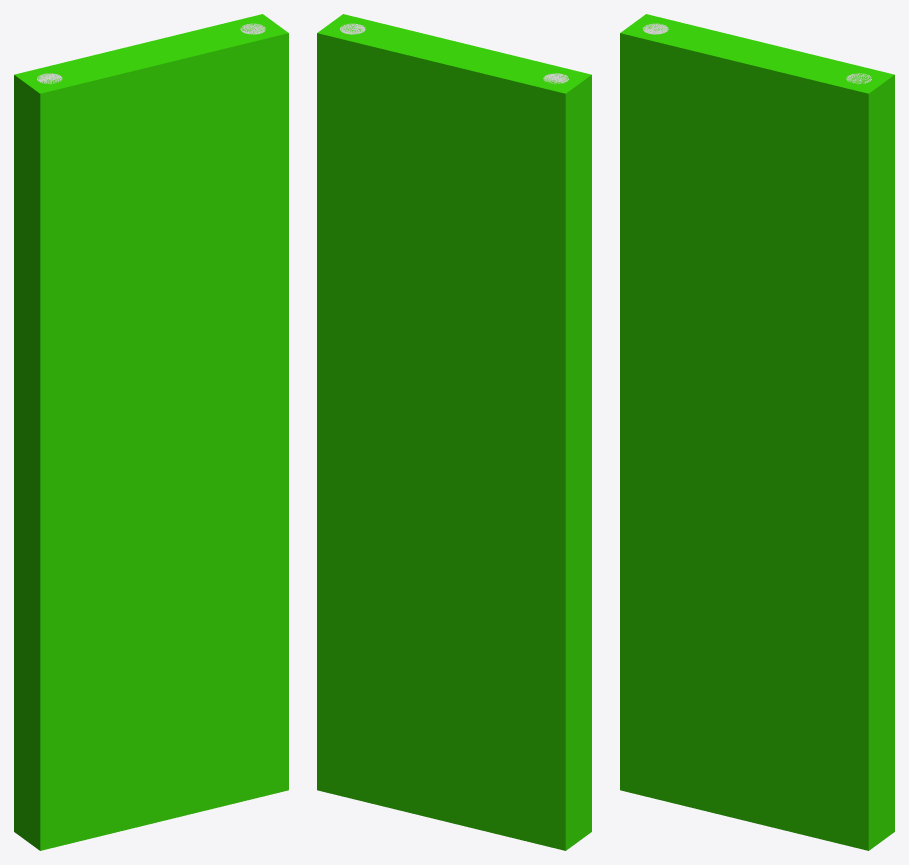
The model's file is ladder_4.glb.
The picture shows the model from 3 angles, left to right: view 1: azimuth 30°, elevation 25°; view 2: azimuth 150°, elevation 25°; view 3: azimuth 330°, elevation 25°; orthographic projection.
Visible parts, largest first — view 1: ladder1; view 2: ladder1; view 3: ladder1.
Part boxes in pixels (left/top/right/bottom): ladder1: left=14, top=14, right=288, bottom=850; ladder1: left=317, top=14, right=591, bottom=850; ladder1: left=620, top=14, right=894, bottom=850.
Bounding box in the file's own units: 22 × 64 × 4.
